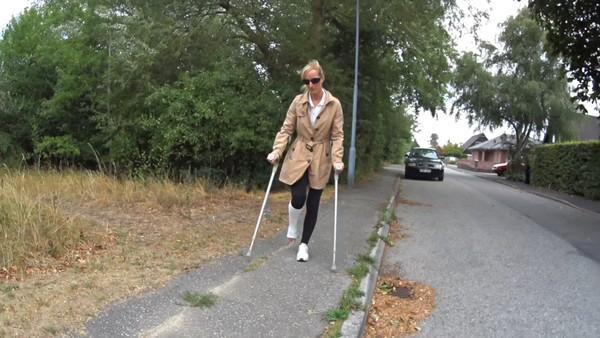crutches: (247, 60, 344, 273)
